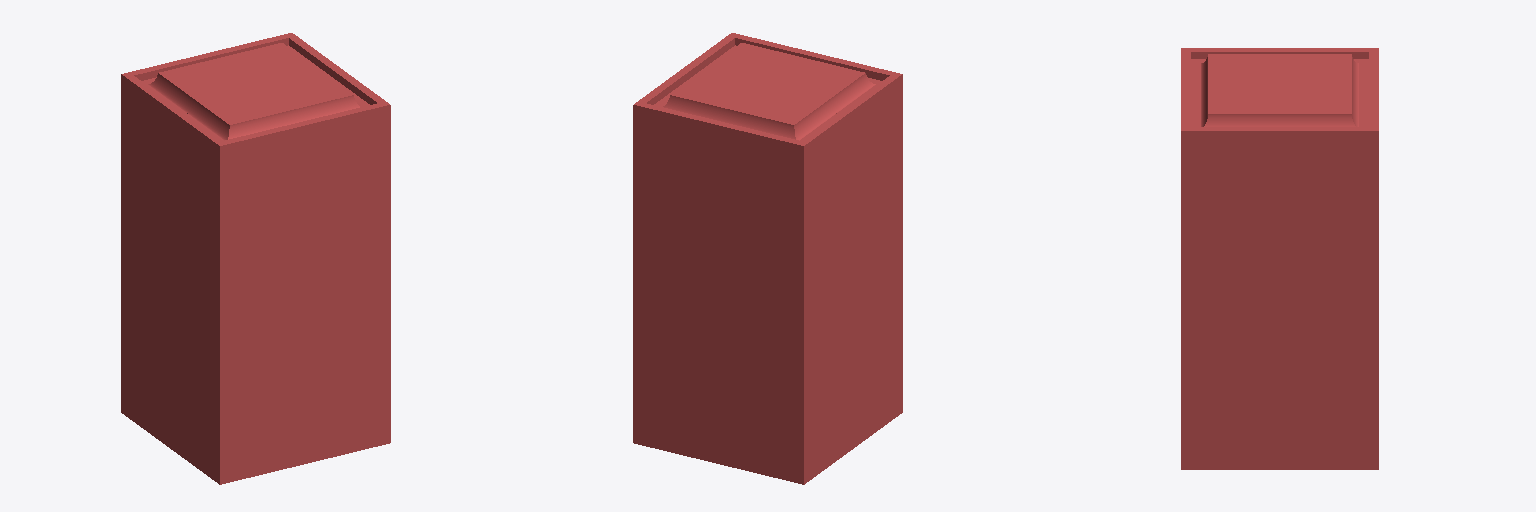
The model's file is podium.obj.
The picture shows the model from 3 angles: view 1: azimuth 30°, elevation 25°; view 2: azimuth 150°, elevation 25°; view 3: azimuth 270°, elevation 25°; orthographic projection.
Parts seen in each view (by area): view 1: Würfel.007; view 2: Würfel.007; view 3: Würfel.007.
Part boxes in pixels (x1,y1,x2,y2): Würfel.007: (121,33,390,484); Würfel.007: (633,33,902,484); Würfel.007: (1181,48,1378,469).
Bounding box in the file's own units: 2.55 × 4.91 × 2.55.